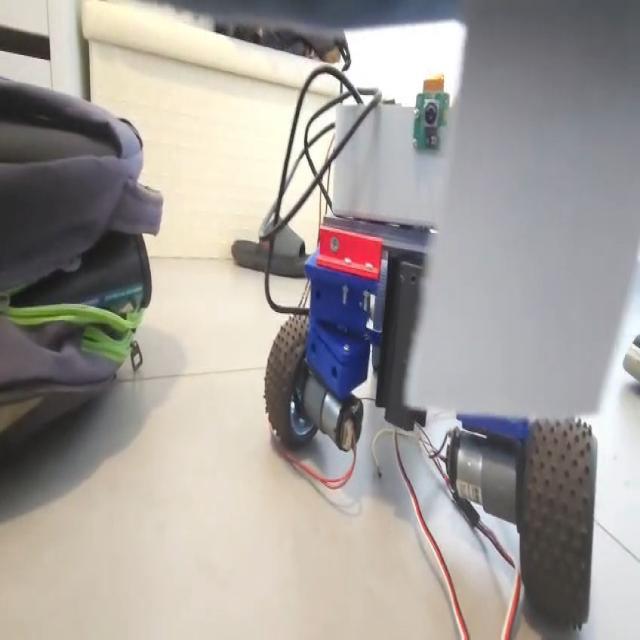Robot: (264, 86, 596, 625)
